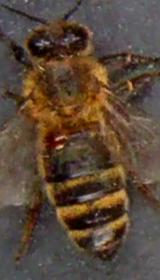varroa_mite: (44, 117, 72, 159)
